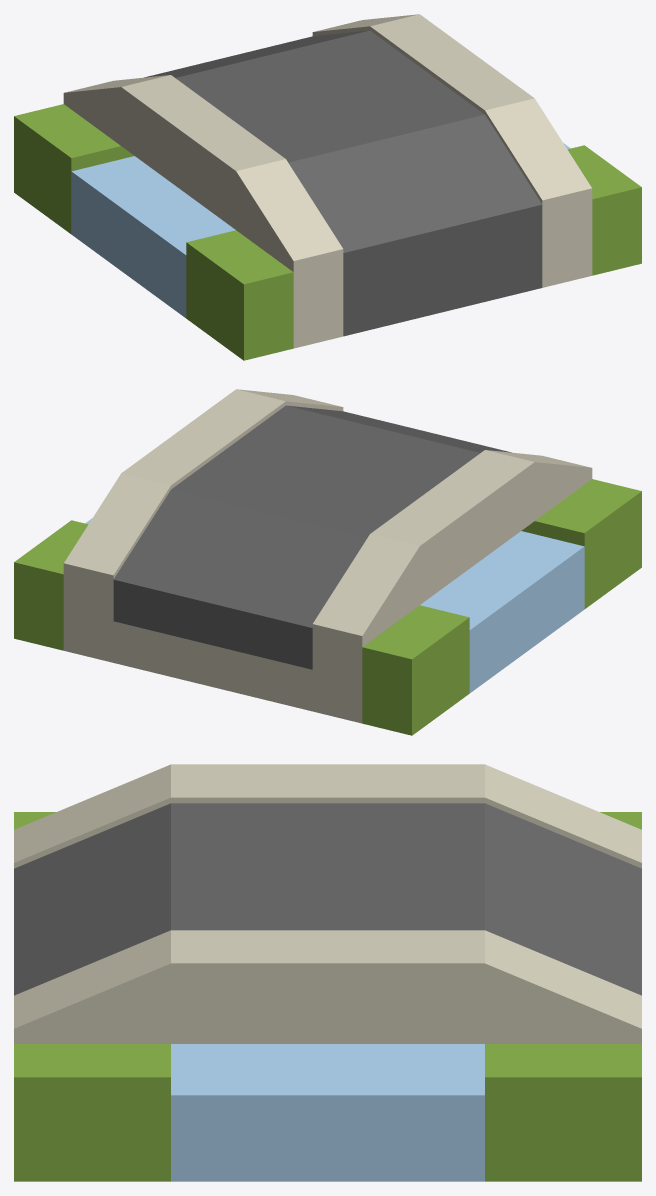
Rendered from tile203.dae.
The picture shows the model from 3 angles, top to bottom: view 1: azimuth 30°, elevation 25°; view 2: azimuth 150°, elevation 25°; view 3: azimuth 270°, elevation 25°; orthographic projection. The views are drawn at different scales.
Parts seen in each view (by area): view 1: tile203; view 2: tile203; view 3: tile203.
Part boxes in pixels (x1,y1,x2,y2): tile203: [14, 14, 641, 360]; tile203: [14, 389, 641, 735]; tile203: [14, 764, 641, 1181].
Size of the model in its own units: 1 by 0.325 by 1.
